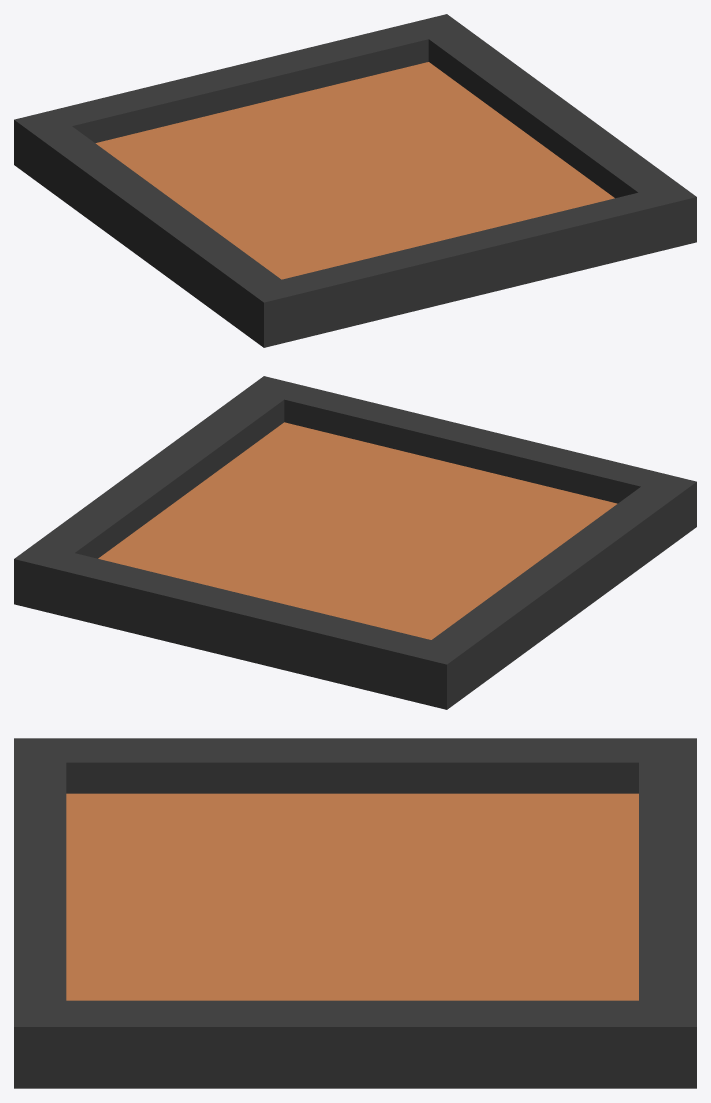
The model's file is tree_base.fbx.
3 renders of one model, top to bottom at view 1: azimuth 30°, elevation 25°; view 2: azimuth 150°, elevation 25°; view 3: azimuth 270°, elevation 25°, orthographic. The views are drawn at different scales.
Parts seen in each view (by area): view 1: tree_base; view 2: tree_base; view 3: tree_base.
Part boxes in pixels (box(x1,y1,x2,y2)): tree_base: box(14, 14, 696, 347); tree_base: box(14, 376, 696, 709); tree_base: box(14, 738, 696, 1088).
Bounding box in the file's own units: 100 × 10 × 100.
1 material, 1 textured.
